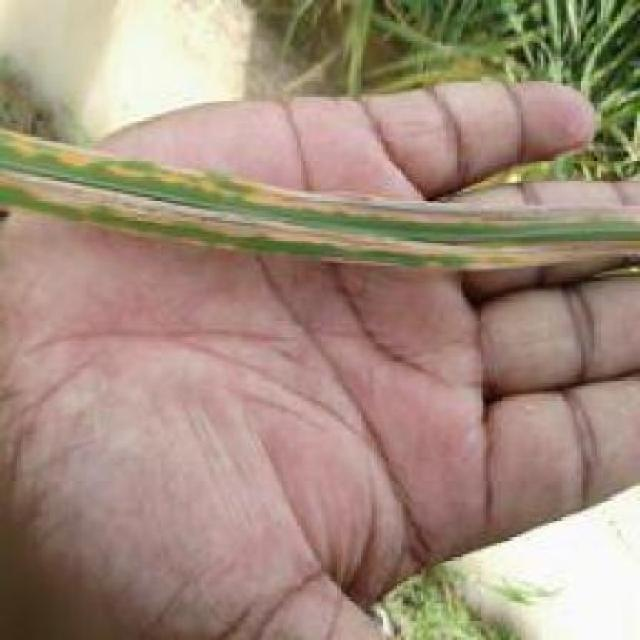Brown_Spot: (1, 117, 637, 269)
